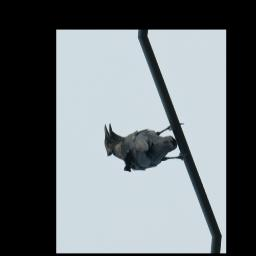Crow: (99, 114, 192, 175)
